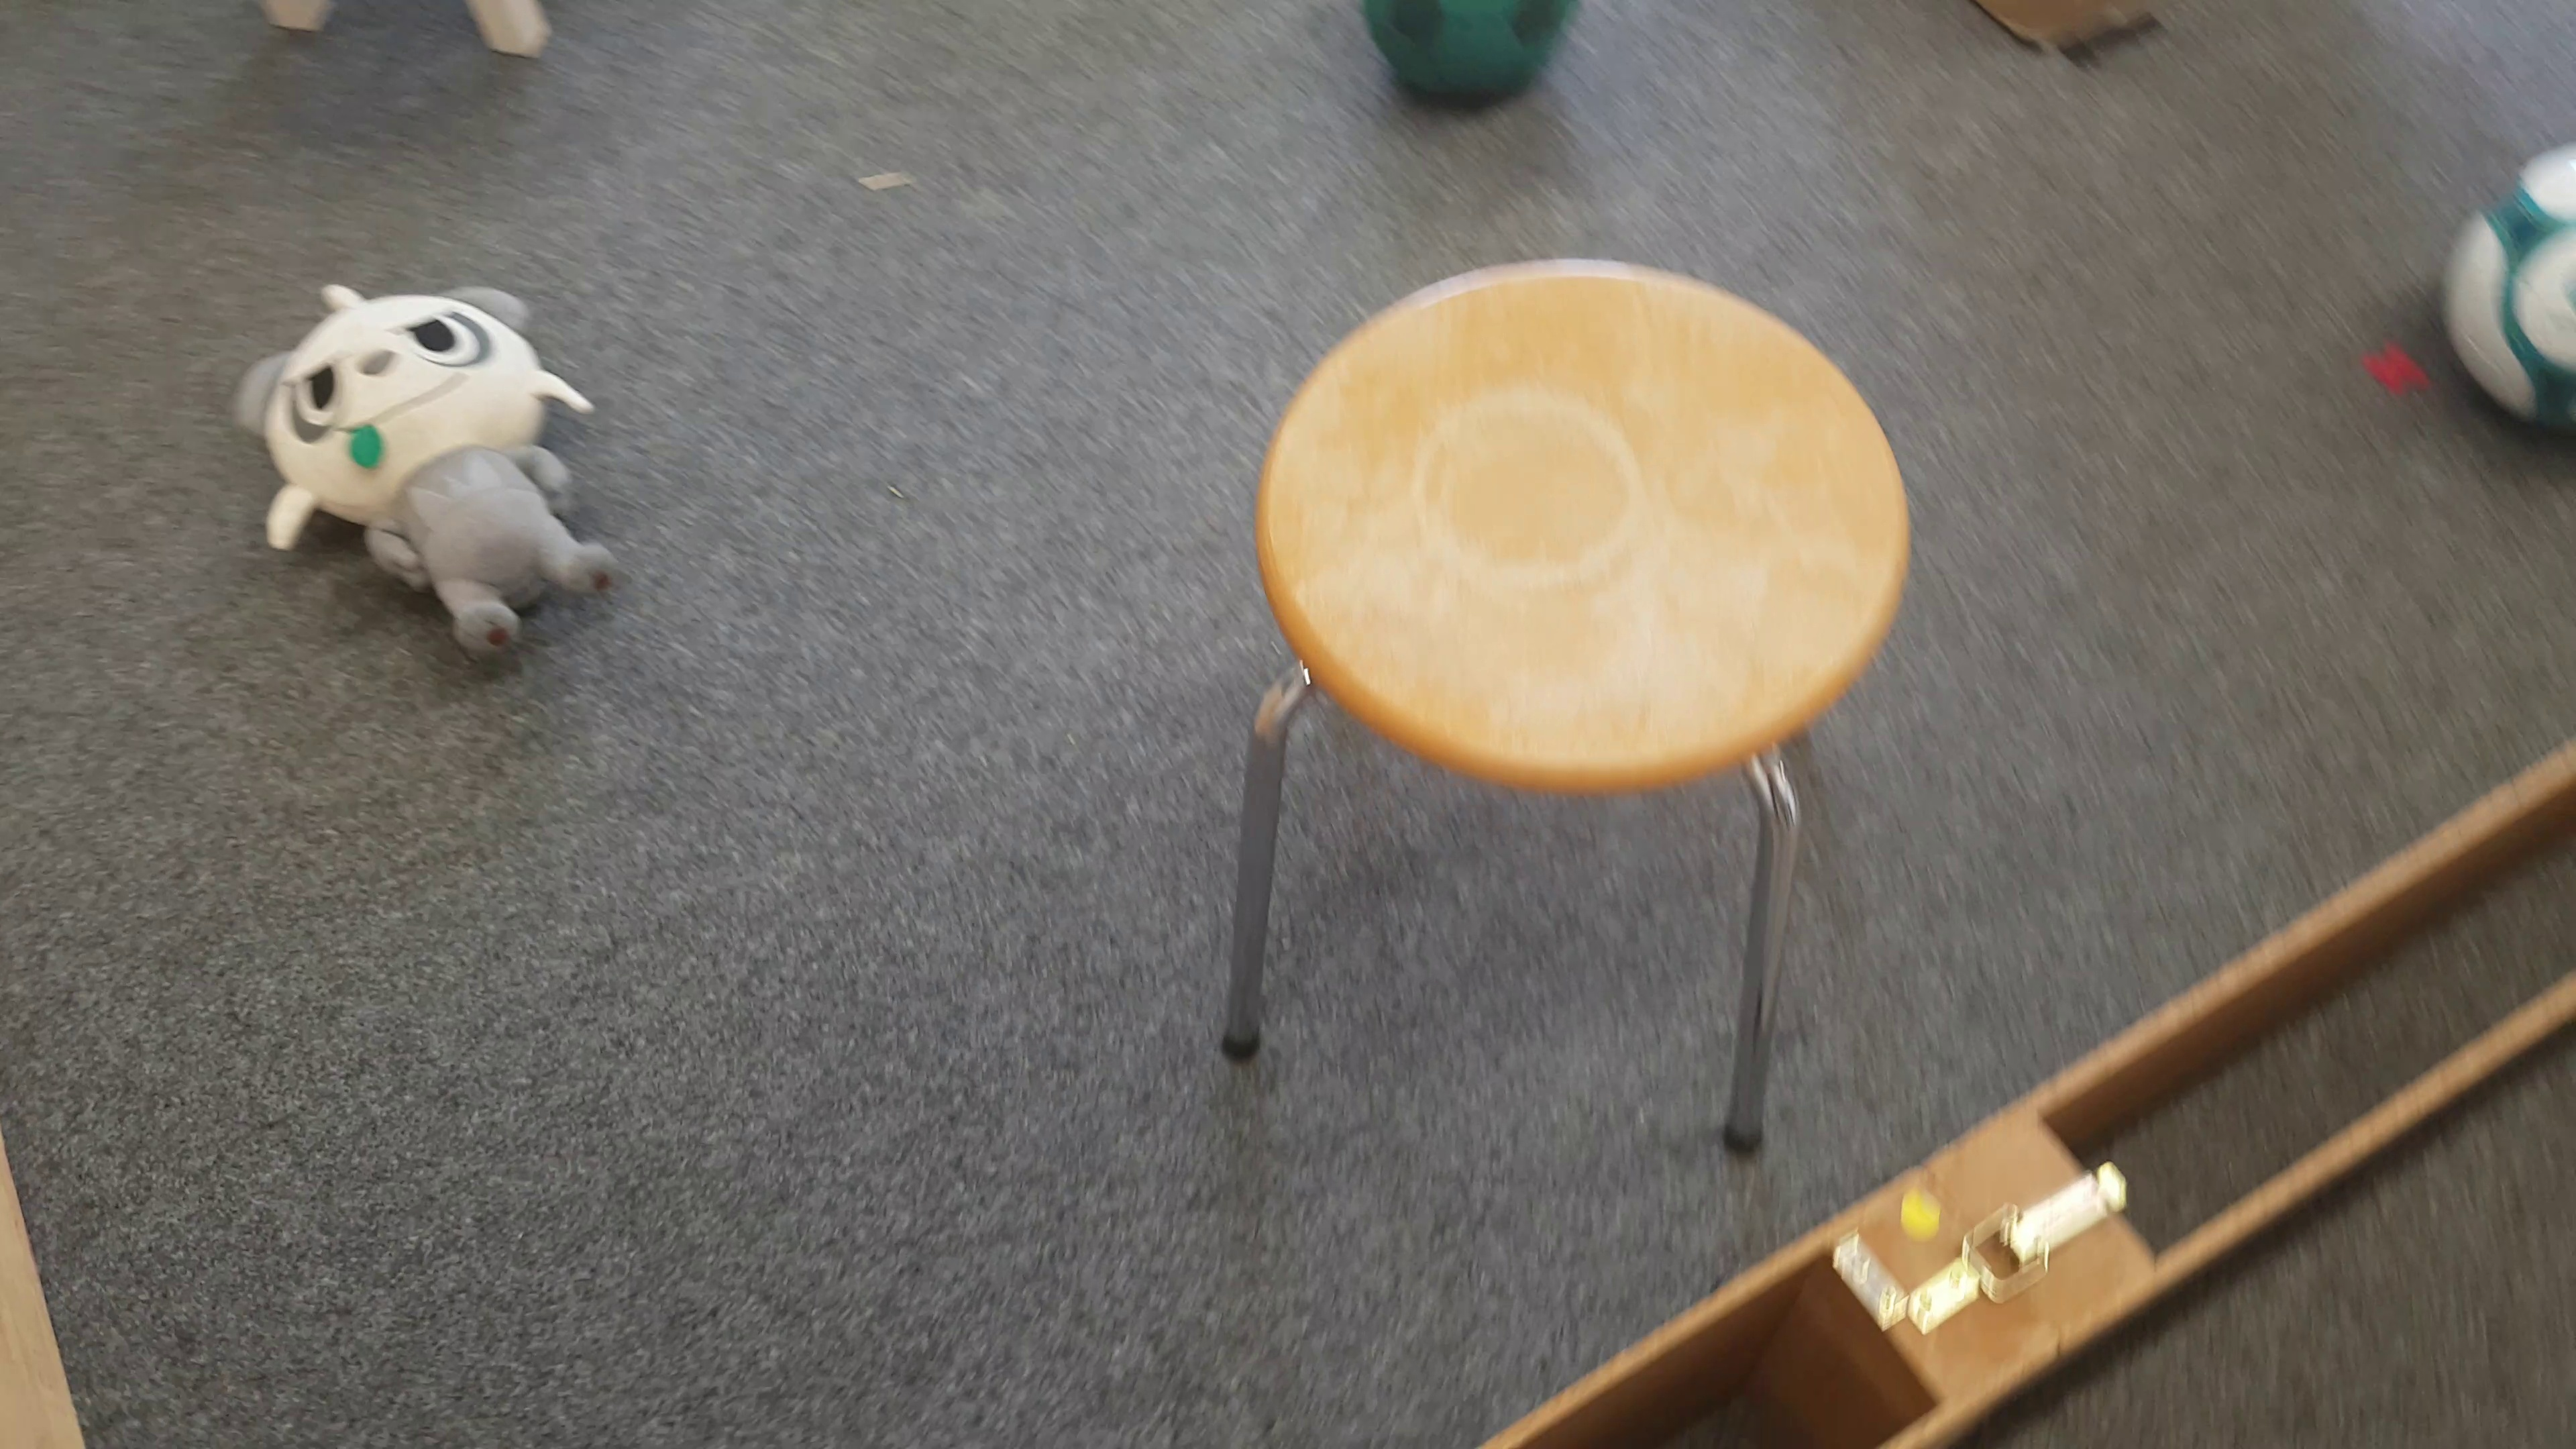grasp: (230, 278, 621, 667)
kick: (2445, 134, 2576, 437), (1364, 2, 1575, 115)
